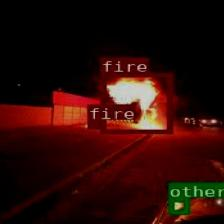fire: (99, 72, 171, 132), (86, 119, 102, 128)
